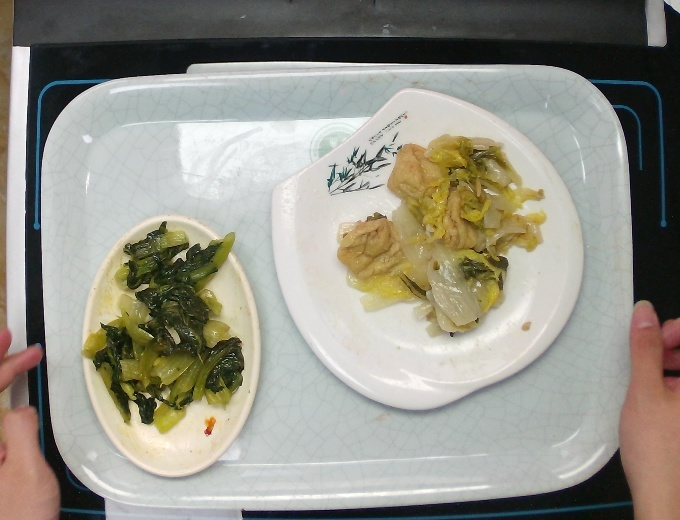JYsf-Mian_Pan: (263, 79, 585, 418)
JYsf-Tuo_Yuan_Wan: (75, 205, 266, 483)
